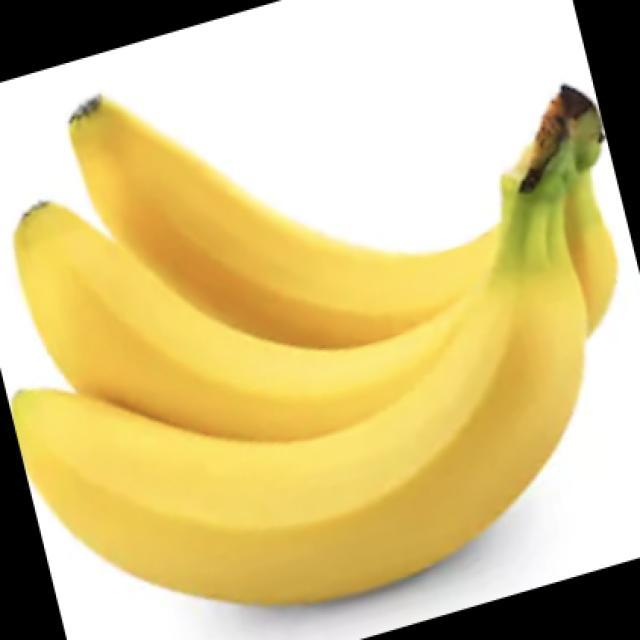Banana: (10, 84, 618, 605)
